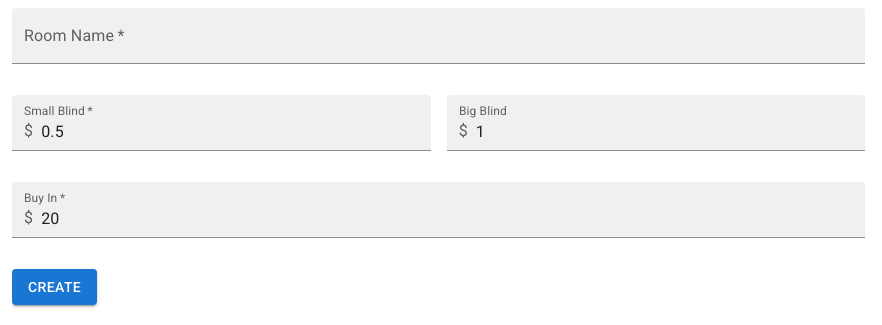
Test case: renders error message and disables create button for invalid; no error message and enabled create button for valid › buyIn
The image size is (882, 325).
Replace the text in the field labelled "Buy In *" with "1" at (453, 210), box [41,182,865,238]
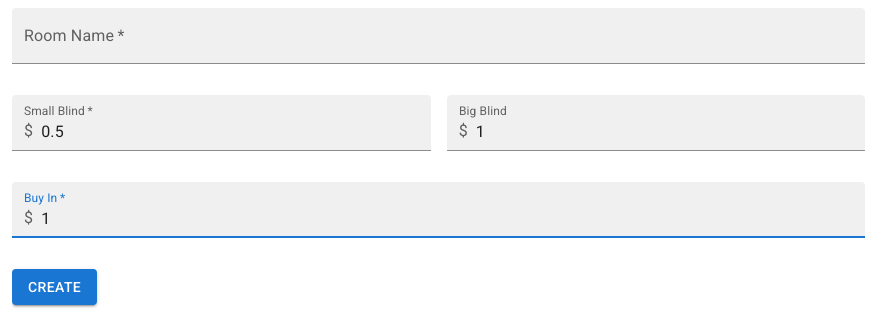
Click the field labelled "Big Blind".
click(671, 123)  # box [476,95,865,151]
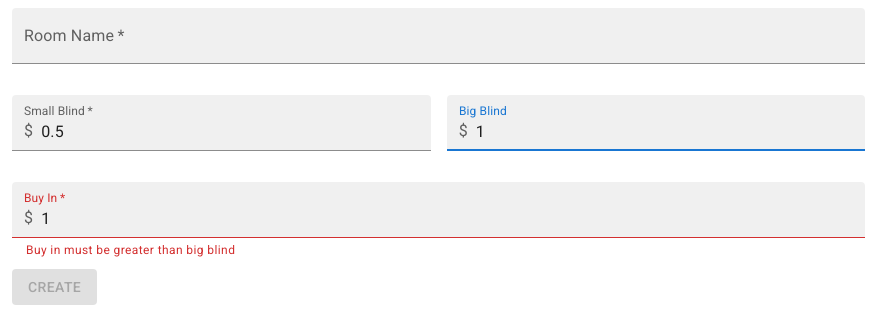
Check: the button "Create" is disabled, box [12,269,97,305]
Replace the text in the field labelled "Buy In *" with "20" at (453, 210), box [41,182,865,238]
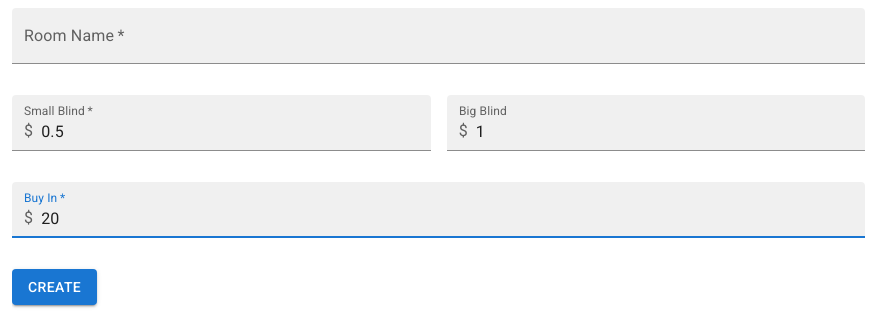
Check: the button "Create" is enabled, box [12,269,97,305]
